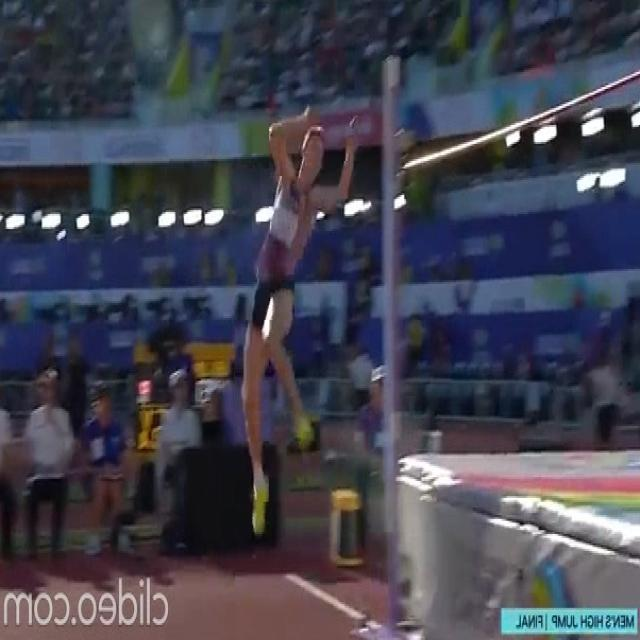jump: (241, 101, 362, 536)
